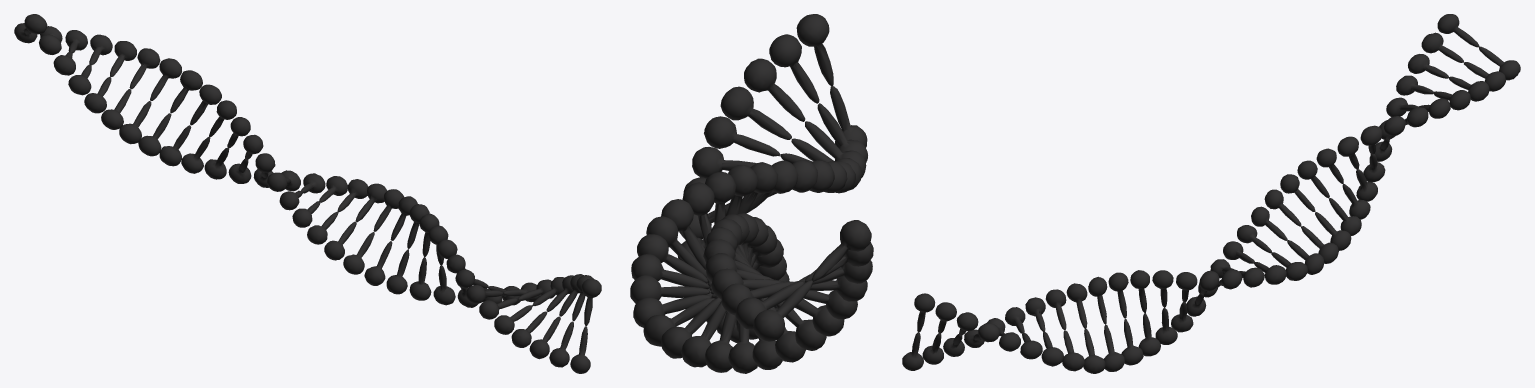
File: dna-transformed.glb
The picture shows the model from 3 angles, left to right: view 1: azimuth 30°, elevation 25°; view 2: azimuth 150°, elevation 25°; view 3: azimuth 270°, elevation 25°; orthographic projection. The views are drawn at different scales.
Visible parts, largest first — view 1: defaultMaterial; view 2: defaultMaterial; view 3: defaultMaterial.
Part boxes in pixels (x1=…): defaultMaterial: x1=14, y1=14, x2=601, y2=373; defaultMaterial: x1=630, y1=14, x2=873, y2=373; defaultMaterial: x1=902, y1=14, x2=1520, y2=373.
Size of the model in its own units: 2050 by 1418 by 3463.
Materials: 1 (1 with a texture image).
